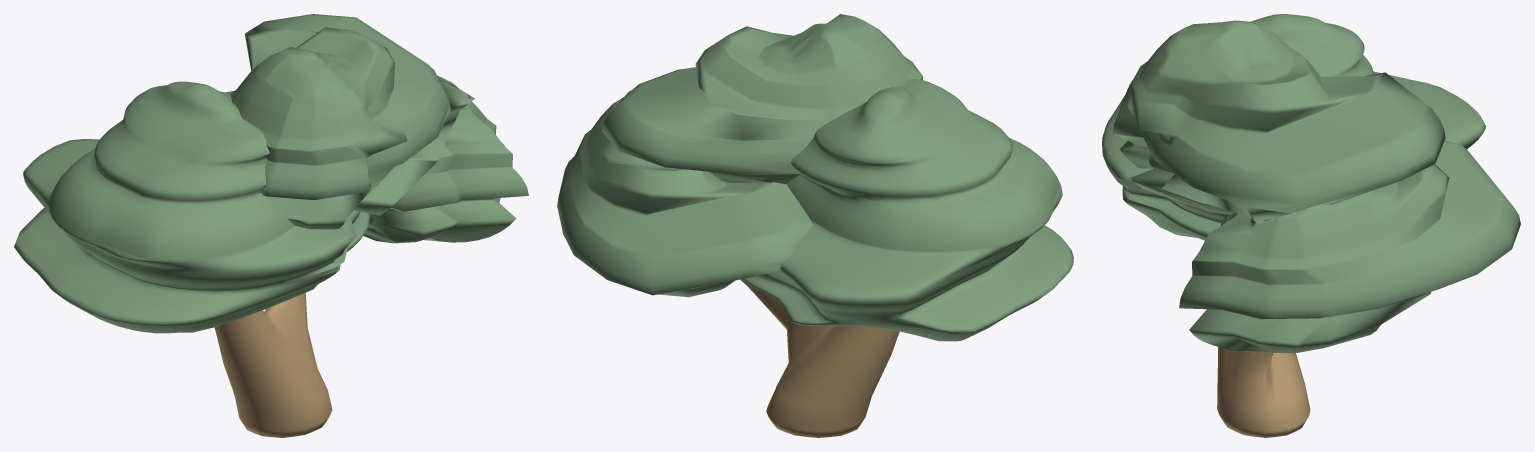
Rendered from Bush2.fbx.
3 renders of one model, left to right at view 1: azimuth 30°, elevation 25°; view 2: azimuth 150°, elevation 25°; view 3: azimuth 270°, elevation 25°, orthographic. The views are drawn at different scales.
Visible parts, largest first — view 1: pSphere20, pCylinder108; view 2: pSphere20, pCylinder108; view 3: pSphere20, pCylinder108.
Part boxes in pixels (x1,y1,x2,y2): pSphere20: [14, 14, 528, 333]; pCylinder108: [214, 293, 332, 437]; pSphere20: [557, 14, 1073, 341]; pCylinder108: [740, 279, 899, 437]; pSphere20: [1102, 14, 1520, 353]; pCylinder108: [1217, 347, 1310, 437].
Bounding box in the file's own units: 4.07 × 3.26 × 3.11.
